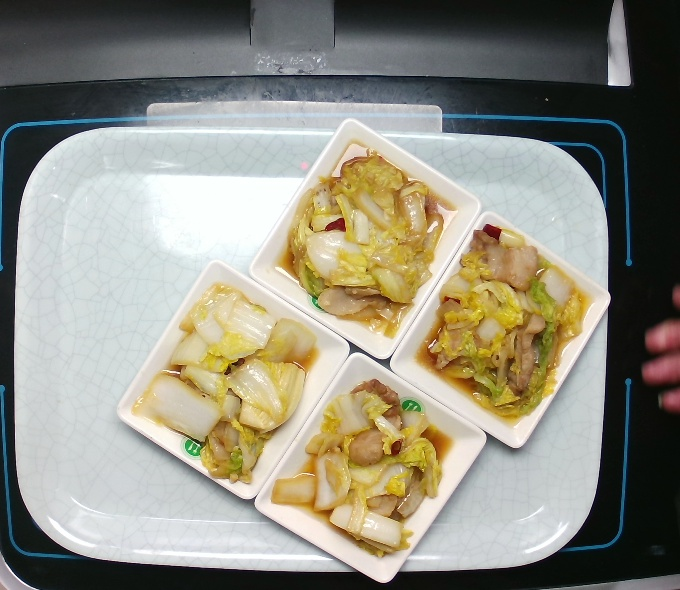wcq-DaBaiCaiRouPian: (136, 279, 321, 487), (422, 219, 591, 427), (280, 143, 452, 344), (266, 376, 449, 564)
